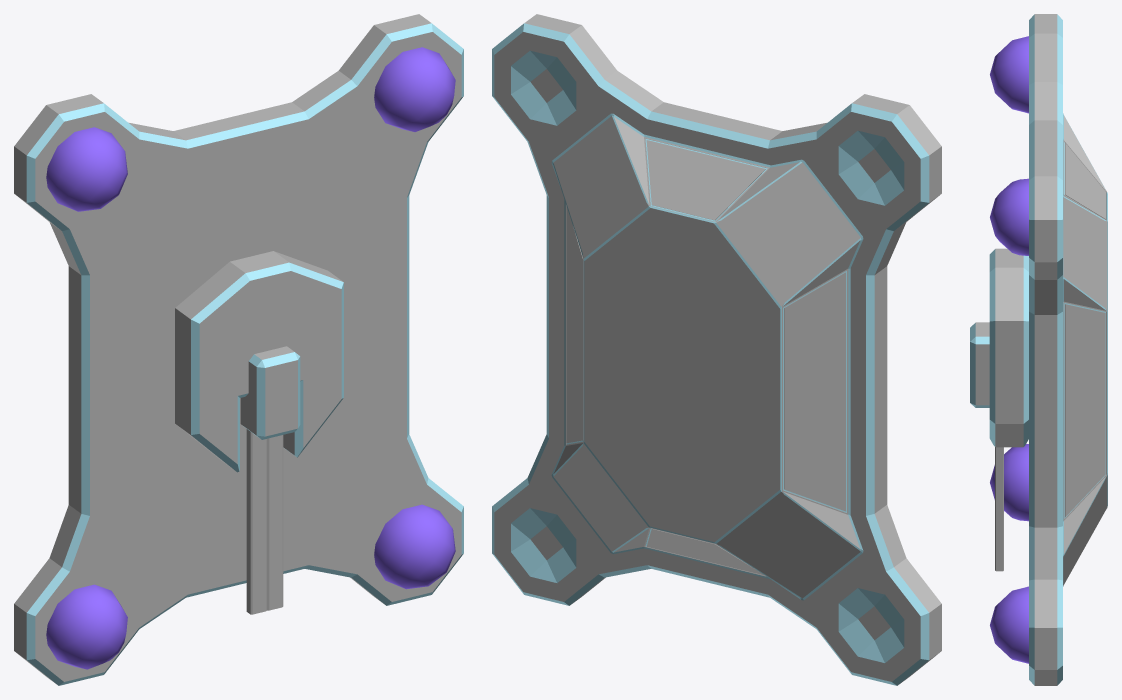
Rendered from All_V3.fbx.
3 renders of one model, left to right at view 1: azimuth 30°, elevation 25°; view 2: azimuth 150°, elevation 25°; view 3: azimuth 270°, elevation 25°, orthographic. The views are drawn at different scales.
Visible parts, largest first — view 1: Mirror12.006, Chamfer2.001, Chamfer1.001; view 2: Mirror12.006; view 3: Mirror12.006, Chamfer2.001, Chamfer1.001.
Boxes of the visible parts, <box> form: Mirror12.006: <box>14,14,463,685</box>; Chamfer2.001: <box>175,251,343,472</box>; Chamfer1.001: <box>240,346,300,614</box>; Mirror12.006: <box>492,14,941,685</box>; Mirror12.006: <box>990,14,1107,685</box>; Chamfer2.001: <box>989,248,1028,447</box>; Chamfer1.001: <box>970,322,1003,571</box>.
Bounding box in the file's own units: 400 × 500 × 123.
